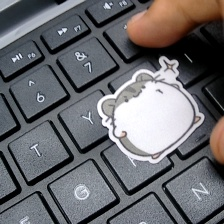mouse: (94, 53, 211, 165)
